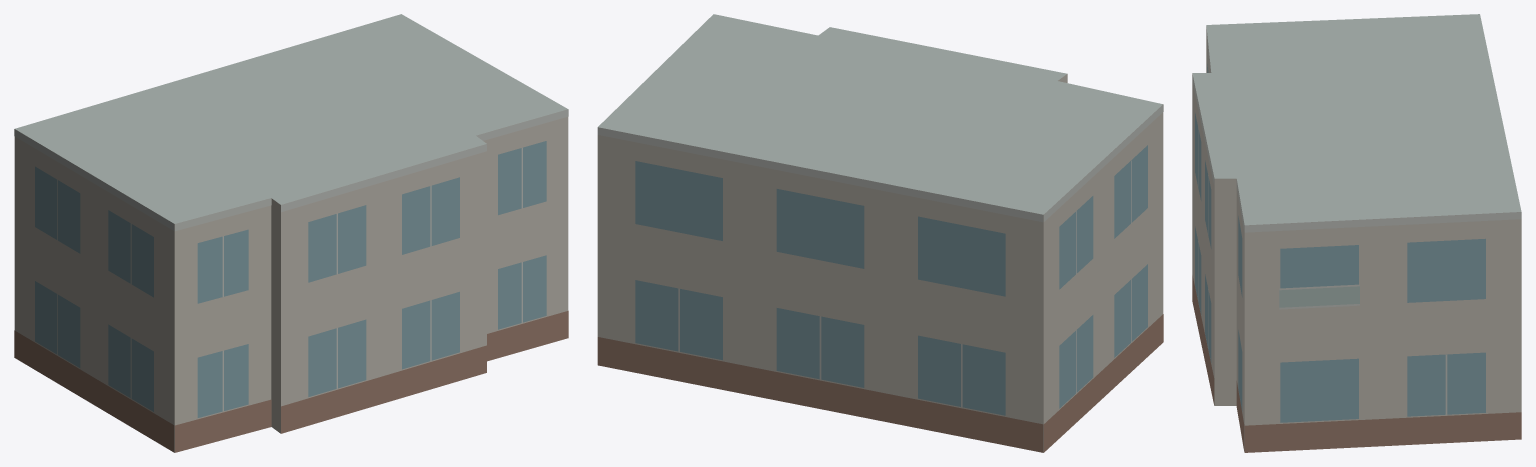
File: survey-upis-32642116.glb
The picture shows the model from 3 angles, left to right: view 1: azimuth 30°, elevation 25°; view 2: azimuth 150°, elevation 25°; view 3: azimuth 270°, elevation 25°; orthographic projection. The views are drawn at different scales.
Parts seen in each view (by area): view 1: survey-upis-32642116.tmp; view 2: survey-upis-32642116.tmp; view 3: survey-upis-32642116.tmp.
Boxes of the visible parts, <box> form: survey-upis-32642116.tmp: <box>14,14,568,452</box>; survey-upis-32642116.tmp: <box>597,14,1163,452</box>; survey-upis-32642116.tmp: <box>1192,14,1521,452</box>.
Bounding box in the file's own units: 15.15 × 7.6 × 9.98.
